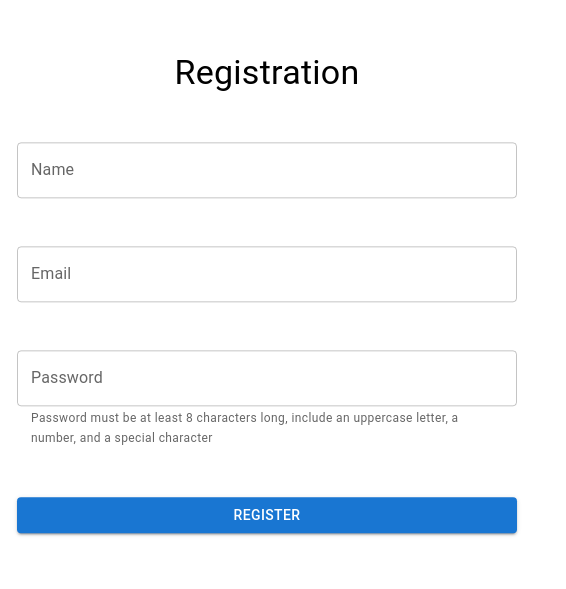
registration › displays an error if server returns an error
Type "John Doe" into the field labelled "Name".
click(267, 170); type("John Doe")  # box [17, 142, 517, 198]
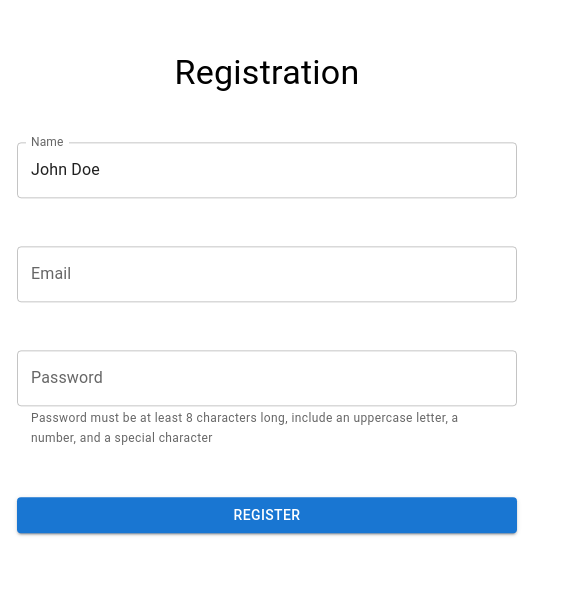
Type "test@example.com" into the field labelled "Email".
click(267, 274); type("test@example.com")  # box [17, 246, 517, 302]
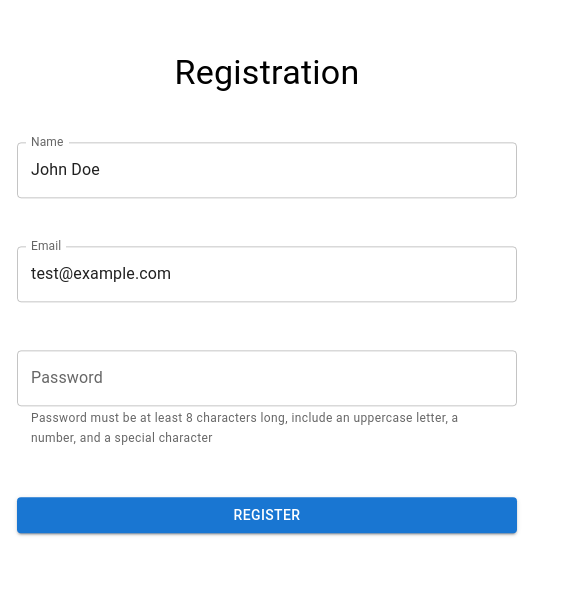
Type "StrongP@ss1" into the password field labelled "Password".
click(267, 378); type("StrongP@ss1")  # box [17, 350, 517, 406]
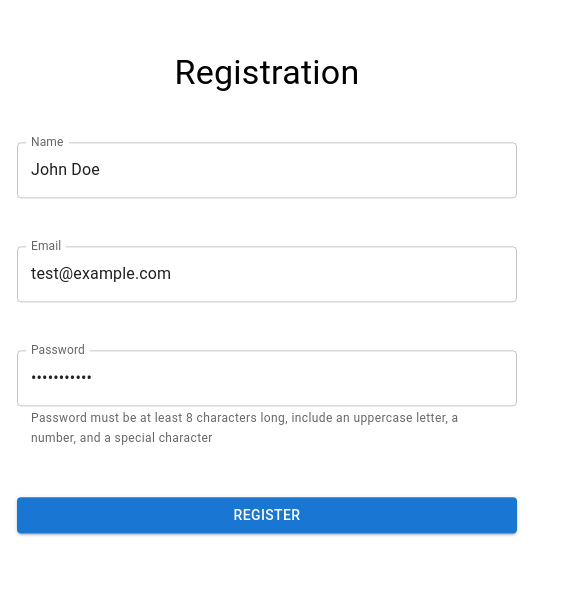
Click the button "Register".
click(267, 515)  # box [17, 497, 517, 534]
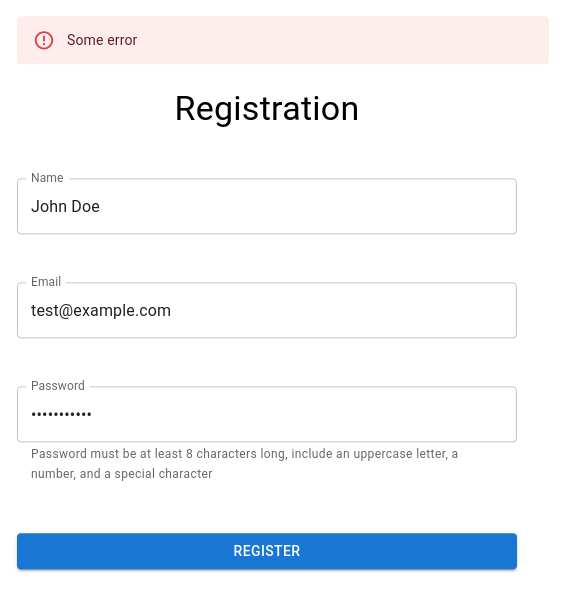
Check: the text "Some error" is shown, box [67, 32, 138, 48]
